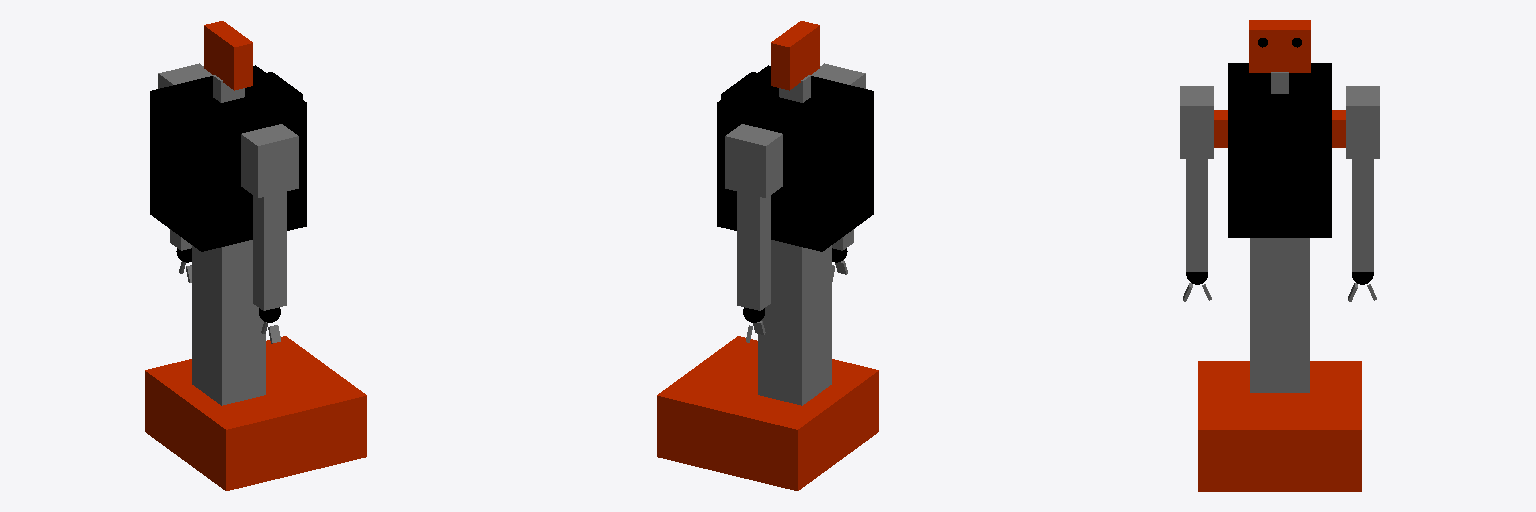
--- Facts derived from the render (not from the file) ---
The picture shows the robot from 3 angles, left to right: view 1: azimuth 30°, elevation 25°; view 2: azimuth 150°, elevation 25°; view 3: azimuth 270°, elevation 25°; orthographic projection.
Model tangy with 37 links and 36 joints (18 revolute, 18 fixed), rooted at base_link_robot, posed all joints at 0.
Links seen in each view (by area): view 1: base_link_robot, superior_link, base_torso, right_shoulder, head, lower_right_arm, upper_base_torso, upper_right_arm, left_shoulder; view 2: base_link_robot, superior_link, base_torso, left_shoulder, head, lower_left_arm, upper_base_torso, upper_left_arm, right_shoulder; view 3: base_link_robot, superior_link, base_torso, head, right_shoulder, left_shoulder, upper_base_torso, lower_right_arm, lower_left_arm, upper_right_arm, upper_left_arm, kinect (+2 smaller).
Link boxes in pixels (<box>): base_link_robot: <box>145,336,366,490</box>; superior_link: <box>150,65,306,251</box>; base_torso: <box>192,262,265,405</box>; right_shoulder: <box>241,124,298,197</box>; head: <box>204,21,252,90</box>; lower_right_arm: <box>253,239,286,310</box>; upper_base_torso: <box>192,240,252,282</box>; upper_right_arm: <box>253,192,286,245</box>; left_shoulder: <box>158,63,212,88</box>; base_link_robot: <box>657,336,878,490</box>; superior_link: <box>717,65,873,251</box>; base_torso: <box>758,262,831,405</box>; left_shoulder: <box>725,124,782,197</box>; head: <box>771,21,819,90</box>; lower_left_arm: <box>737,239,770,310</box>; upper_base_torso: <box>771,240,831,282</box>; upper_left_arm: <box>737,192,770,245</box>; right_shoulder: <box>811,63,865,88</box>; base_link_robot: <box>1198,361,1361,491</box>; superior_link: <box>1228,63,1331,237</box>; base_torso: <box>1250,269,1309,392</box>; head: <box>1249,20,1310,72</box>; right_shoulder: <box>1180,86,1213,158</box>; left_shoulder: <box>1346,86,1379,158</box>; upper_base_torso: <box>1250,238,1309,268</box>; lower_right_arm: <box>1186,207,1207,271</box>; lower_left_arm: <box>1352,207,1373,271</box>; upper_right_arm: <box>1186,159,1207,206</box>; upper_left_arm: <box>1352,159,1373,206</box>; kinect: <box>1249,114,1310,129</box>.
Size in the robot's own frame: 0.513 by 0.585 by 1.35 metres.
Geometry: primitives only (box / cylinder / sphere), no mesh files.

The robot description file, URDF, robot "tangy":
<?xml version="1.0" ?>
<!-- =================================================================================== -->
<!-- |    This document was autogenerated by xacro from [local-path]/Documents/TangerineModel.urdf.xacro | -->
<!-- |    EDITING THIS FILE BY HAND IS NOT RECOMMENDED                                 | -->
<!-- =================================================================================== -->
<robot name="tangy" xmlns:xacro="http://www.ros.org/wiki/xacro" xmlns:controller="http://playerstage.sourceforge.net/gazebo/xmlschema/#controller" >
  <!-- .......................MACROS.................... -->
  <!-- ....................... END MACROS.................... -->
  <!--.................ROS_CONTROL PLUGIN........... -->
  <gazebo>
    <plugin name="gazebo_ros_control" filename="libgazebo_ros_control.so">
      <robotNamespace></robotNamespace>
      <robotSimType>gazebo_ros_control/DefaultRobotHWSim</robotSimType>
    </plugin>
  </gazebo>
  
  <!-- ................BASE................. -->
<!--  <link name="root_frame_dummy">
    <visual>
      <geometry>
        <box size="0 0 0"/>
      </geometry>
    </visual>
    <inertial>
      <mass value="0.001"/>
      <inertia ixx="0.00001" ixy="0" ixz="0" iyy="0.00001" iyz="0" izz="0.00001"/>
    </inertial>
    <origin xyz="0 0 0"/>
  </link>
  <joint name="root_frame_to_base_torso" type="planar">
    <limit effort="1000.0" lower="0" upper="0" velocity="0"/>
    <parent link="root_frame_dummy"/>
    <child link="base_link_robot"/>
    <origin xyz="0 0 .1"/>
  </joint>-->
  <link name="base_link_robot">
    <visual>
      <geometry>
        <box size="0.48 0.48 0.2"/>
      </geometry>
      <material name="orange">
        <color rgba=".8 .2 0 1"/>
      </material>
    </visual>
    <collision>
      <geometry>
        <cylinder length="0.18" radius="0.2"/>
      </geometry>
    </collision>
    <inertial>
      <mass value="25"/>
      <inertia ixx="1" ixy="0.0" ixz="0.0" iyy="1" iyz="0.0" izz="1"/>
    </inertial>
    <origin xyz="0 0 0"/>
  </link>
  <gazebo reference="base_link">
    <material>Gazebo/Red</material>
  </gazebo>
  <joint name="base_link_to_torso" type="fixed">
    <axis xyz="1 0 0"/>
    <limit effort="1000.0" lower="0" upper="0" velocity="0"/>
    <parent link="base_link_robot"/>
    <child link="base_torso"/>
    <origin xyz="-0.093 0 0.3"/>
  </joint>
  <link name="base_torso">
    <visual>
      <geometry>
        <box size="0.176 0.15 0.4"/>
      </geometry>
      <material name="grey">
        <color rgba="0.5 0.5 0.5 1"/>
      </material>
      <origin rpy="0 0 1.57075"/>
    </visual>
    <collision>
      <geometry>
        <cylinder length="0.38" radius="0.074"/>
      </geometry>
    </collision>
    <inertial>
      <mass value="15"/>
      <inertia ixx="1" ixy="0.0" ixz="0.0" iyy="1" iyz="0.0" izz="1"/>
    </inertial>
  </link>
  <gazebo reference="base_torso">
    <material>Gazebo/Red</material>
  </gazebo>
  <link name="upper_base_torso">
    <visual>
      <geometry>
        <box size="0.176 0.15 0.15"/>
      </geometry>
      <material name="grey"/>
    </visual>
    <collision>
      <geometry>
        <cylinder length="0.14" radius="0.074"/>
      </geometry>
    </collision>
    <inertial>
      <mass value="10"/>
      <inertia ixx="1.0" ixy="0.0" ixz="0.0" iyy="1.0" iyz="0.0" izz="1"/>
    </inertial>
  </link>
  <gazebo reference="upper_base_torso">
    <material>Gazebo/Gray</material>
  </gazebo>
  <joint name="torso_to_upper_base" type="fixed">
    <limit effort="1000.0" lower="0" upper="0" velocity="0"/>
    <parent link="base_torso"/>
    <child link="upper_base_torso"/>
    <origin rpy="0 0 -1.57075" xyz="0 0 0.275"/>
  </joint>
  <link name="superior_link">
    <visual>
      <geometry>
        <box size="0.305 0.360 0.4"/>
      </geometry>
      <material name="black">
        <color rgba="0 0 0 1"/>
      </material>
    </visual>
    <collision>
      <geometry>
        <cylinder length="0.38" radius="0.15"/>
      </geometry>
    </collision>
    <inertial>
      <mass value="10"/>
      <inertia ixx=".5" ixy="0.0" ixz="0.0" iyy=".5" iyz="0.0" izz=".5"/>
    </inertial>
  </link>
  <gazebo reference="superior_link">
    <material>Gazebo/Black</material>
  </gazebo>
  <joint name="upper_base_to_superior_link" type="fixed">
    <limit effort="1000.0" lower="0" upper="0" velocity="0"/>
    <parent link="upper_base_torso"/>
    <child link="superior_link"/>
    <origin xyz="0 0 0.275"/>
  </joint>
  <joint name="kinect_joint" type="fixed">
    <limit effort="1000.0" lower="0" upper="0" velocity="0"/>
    <parent link="superior_link"/>
    <child link="kinect"/>
    <origin rpy="0 0 1.57075" xyz="0 0.19 0.18"/>
  </joint>  
  <link name="kinect">
    <visual>
      <geometry>
        <box size="0.02 0.18 0.04"/>
      </geometry>
      <material name="grey">
        <color rgba="0 0 0 0.5"/>
      </material>
    </visual>
    <collision>
      <geometry>
        <box size="0.0001 0.0001 0.0001"/>
      </geometry>
    </collision>
    <inertial>
      <mass value="0.01"/>
      <inertia ixx=".0001" ixy="0.0" ixz="0.0" iyy=".0001" iyz="0.0" izz=".0001"/>
    </inertial>
  </link>
  <joint name="kinect_depth_joint" type="fixed">
    <limit effort="1000.0" lower="0" upper="0" velocity="0"/>
    <parent link="kinect"/>
    <child link="kinect_depth_frame"/>
    <origin rpy="0 0.0 0" xyz="0 0.01 0"/>  
  </joint>
  <link name="kinect_depth_frame" >
    <visual>
      <geometry>
        <box size="0.0001 0.0001 0.0001"/>
      </geometry>
      <material name="grey">
        <color rgba="0 0 0 0.5"/>
      </material>
    </visual>
    <collision>
      <geometry>
        <box size="0.0001 0.0001 0.0001"/>
      </geometry>
    </collision>
    <inertial>
      <mass value="0.01"/>
      <inertia ixx=".0001" ixy="0.0" ixz="0.0" iyy=".0001" iyz="0.0" izz=".0001"/>
    </inertial>
  </link>
  <joint name="kinect_optical_joint" type="fixed">
    <origin rpy="0 0.0 0" xyz="0 0.001 0"/>    
    <parent link="kinect_depth_frame"/>
    <child link="kinect_optical_frame"/>
  </joint>
  <link name="kinect_optical_frame" >
    <visual>
      <geometry>
        <box size="0.0001 0.0001 0.0001"/>
      </geometry>
      <material name="grey">
        <color rgba="0 0 0 0.5"/>
      </material>
    </visual>
    <collision>
      <geometry>
        <box size="0.0001 0.0001 0.0001"/>
      </geometry>
    </collision>
    <inertial>
      <mass value="0.01"/>
      <inertia ixx=".0001" ixy="0.0" ixz="0.0" iyy=".0001" iyz="0.0" izz=".0001"/>
    </inertial>
  </link>
    <gazebo reference="skeleton/openni_depth_frame">
    <sensor name="kinect_optical_frame" type="depth">
      <always_on>true</always_on>
      <update_rate>20</update_rate>
      <camera>
        <horizontal_fov>1.047</horizontal_fov>
        <image>
          <format>R8G8B8</format>
          <width>200</width>
          <height>200</height>
        </image>
        <clip>
          <near>0.5</near>
          <far>5</far>
        </clip>
      </camera>
      <plugin filename="libgazebo_ros_openni_kinect.so" name="skeleton/openni_depth_frame_rgb_link_controller">
        <alwaysOn>true</alwaysOn>
        <updateRate>20</updateRate>
        <cameraName>kinect</cameraName>
        <imageTopicName>/kinect_depth_frame/rgb/image_raw</imageTopicName>
        <cameraInfoTopicName>/kinect_depth_frame/rgb/camera_info</cameraInfoTopicName>
        <pointCloudTopicName>/kinect_depth_frame/depth_registered/points</pointCloudTopicName>
        <depthImageTopicName>/kinect_depth_frame/depth_registered/image</depthImageTopicName>
        <depthImageCameraInfoTopicName>kinect_depth_frame/depth_registered/camera_info</depthImageCameraInfoTopicName>
        <frameName>/kinect_optical_frame</frameName>
        <pointCloudCutoff>0.05</pointCloudCutoff>
        <hackBaseline>0.07</hackBaseline>
        <distortionK1>0.0</distortionK1>
        <distortionK2>0.0</distortionK2>
        <distortionK3>0.0</distortionK3>
        <distortionT1>0.0</distortionT1>
        <distortionT2>0.0</distortionT2>
      </plugin>
    </sensor>
    <material value="Gazebo/Red"/>
  </gazebo> 
  <!-- ................END BASE................. -->
  <!-- ................HEAD................. -->
  <link name="neck_link">
    <visual>
      <geometry>
        <box size="0.05 0.08 0.07"/>
      </geometry>
      <material name="grey"/>
    </visual>
    <collision>
      <geometry>
        <cylinder length="0.068" radius="0.024"/>
      </geometry>
    </collision>
    <inertial>
      <mass value="0.5"/>
      <inertia ixx=".0001" ixy="0.0" ixz="0.0" iyy=".0001" iyz="0.0" izz=".0001"/>
    </inertial>
  </link>
  <gazebo reference="neck_link">
    <material>Gazebo/Red</material>
  </gazebo>
  <joint name="superior_to_neck_link" type="fixed">
    <limit effort="1000.0" lower="0" upper="0" velocity="0"/>
    <parent link="superior_link"/>
    <child link="neck_link"/>
    <origin xyz="0 0 0.235"/>
  </joint>
  <link name="neck_z_revolute">
    <collision>
      <geometry>
        <cylinder length="0.01" radius="0.01"/>
      </geometry>
    </collision>
    <inertial>
      <mass value="0.01"/>
      <inertia ixx=".00001" ixy="0" ixz="0.0" iyy=".00001" iyz="0.0" izz=".00001"/>
    </inertial>
  </link>
  <joint name="neck_to_z_revolute" type="revolute">
    <axis xyz="0 0 1"/>
    <limit effort="10.0" lower="-0.7853" upper="0.7853" velocity="3"/>
    <parent link="neck_link"/>
    <child link="neck_z_revolute"/>
    <dynamics damping="1" friction="1000"/>
  </joint>
  <transmission name="neck_to_z_revolute_trans">
    <type>transmission_interface/SimpleTransmission</type>
    <joint name="neck_to_z_revolute"/>
    <actuator name="neck_to_z_revolute_motor">
      <hardwareInterface>EffortJointInterface</hardwareInterface>
      <mechanicalReduction>50</mechanicalReduction>
    </actuator>
  </transmission>
  <link name="neck_x_revolute">
    <collision>
      <geometry>
        <cylinder length="0.001" radius="0.001"/>
      </geometry>
    </collision>
    <inertial>
      <mass value="0.01"/>
      <inertia ixx=".00001" ixy="0.0" ixz="0.0" iyy=".00001" iyz="0.0" izz=".00001"/>
    </inertial>
  </link>
  <joint name="z_revolute_to_x_revolute" type="revolute">
    <axis xyz="1 0 0"/>
    <limit effort="10.0" lower="-0.3926" upper="0.3926" velocity="3"/>
    <parent link="neck_z_revolute"/>
    <child link="neck_x_revolute"/>
    <dynamics damping="1" friction="1000"/>
  </joint>
  <transmission name="z_revolute_to_x_revolute_trans">
    <type>transmission_interface/SimpleTransmission</type>
    <joint name="z_revolute_to_x_revolute"/>
    <actuator name="z_revolute_to_x_revolute_motor">
      <hardwareInterface>EffortJointInterface</hardwareInterface>
      <mechanicalReduction>50</mechanicalReduction>
    </actuator>
  </transmission>
  <link name="head">
    <visual>
      <geometry>
        <box size="0.18 0.065 0.14"/>
      </geometry>
      <material name="orange"/>
    </visual>
    <collision>
      <geometry>
        <box size="0.16 0.05 0.12"/>
      </geometry>
    </collision>
    <inertial>
      <mass value="2"/>
      <inertia ixx="0.03" ixy="0.0" ixz="0.0" iyy="0.08" iyz="0.0" izz="0.05"/>
    </inertial>
  </link>
  <gazebo reference="head">
    <material>Gazebo/Red</material>
  </gazebo>
  <joint name="revolute_head" type="fixed">
    <limit effort="1000.0" lower="0" upper="0" velocity="0"/>
    <parent link="neck_x_revolute"/>
    <child link="head"/>
    <origin xyz="0 0 0.1"/>
  </joint>
  <link name="right_eye">
    <visual>
      <geometry>
        <cylinder length="0.015" radius="0.015"/>
      </geometry>
      <material name="black"/>
      <origin rpy="-1.57075 0 0"/>
    </visual>
    <collision>
      <geometry>
        <cylinder length="0.013" radius="0.005"/>
      </geometry>
    </collision>
    <inertial>
      <mass value="0.2"/>
      <inertia ixx=".000001" ixy="0.0" ixz="0.0" iyy="0" iyz="0.0" izz=".000001"/>
    </inertial>
  </link>
  <joint name="right_eye_to_head" type="fixed">
    <limit effort="1000.0" lower="0" upper="0" velocity="0"/>
    <parent link="head"/>
    <child link="right_eye"/>
    <origin xyz="0.05 0.03 0.03"/>
  </joint>
  <link name="left_eye">
    <visual>
      <geometry>
        <cylinder length="0.015" radius="0.015"/>
      </geometry>
      <material name="black"/>
      <origin rpy="-1.57075 0 0"/>
    </visual>
    <collision>
      <geometry>
        <cylinder length="0.013" radius="0.005"/>
      </geometry>
    </collision>
    <inertial>
      <mass value="0.2"/>
      <inertia ixx=".000001" ixy="0.0" ixz="0.0" iyy="0" iyz="0.0" izz=".000001"/>
    </inertial>
  </link>
  <joint name="left_eye_to_head" type="fixed">
    <limit effort="1000.0" lower="0" upper="0" velocity="0"/>
    <parent link="head"/>
    <child link="left_eye"/>
    <origin xyz="-0.05 0.03 0.03"/>
  </joint> 
  <!-- ................END HEAD................. -->
  <!-- ................RIGHT ARM................. -->
  <link name="right_shoulder_link">
    <visual>
      <geometry>
        <box size="0.04 0.07 0.09"/>
      </geometry>
      <material name="orange"/>
    </visual>
    <collision>
      <geometry>
        <cylinder length="0.10" radius="0.035"/>
      </geometry>
    </collision>
    <inertial>
      <mass value=".5"/>
      <inertia ixx=".001" ixy="0.0" ixz="0.0" iyy=".001" iyz="0.0" izz=".0005"/>
    </inertial>
  </link>
  <gazebo reference="right_shoulder_link">
    <material>Gazebo/Gray</material>
  </gazebo>
  <joint name="superior_link_to_right_shoulder_link" type="fixed">
    <axis xyz="1 0 0"/>
    <limit effort="100.0" lower="-3.142" upper="3.142" velocity="1"/>
    <parent link="superior_link"/>
    <child link="right_shoulder_link"/>
    <origin xyz="0.1725 0 0.07"/>
    <dynamics damping="1.5" friction="1000"/>
  </joint>
  <link name="right_shoulder">
    <visual>
      <geometry>
        <box size="0.10 0.14 0.17"/>
      </geometry>
      <material name="grey"/>
    </visual>
    <collision>
      <geometry>
        <cylinder length="0.10" radius="0.04"/>
      </geometry>
    </collision>
    <inertial>
      <mass value="1"/>
      <inertia ixx=".001" ixy="0.0" ixz="0.0" iyy=".001" iyz="0.0" izz=".0008"/>
    </inertial>
  </link>
  <gazebo reference="right_shoulder">
    <material>Gazebo/Gray</material>
  </gazebo>
  <joint name="right_shoulder_x_revolute" type="revolute">
    <axis xyz="1 0 0"/>
    <limit effort="100" lower="-0.34907" upper="3.35103" velocity="3"/>
    <parent link="right_shoulder_link"/>
    <child link="right_shoulder"/>
    <origin xyz="0.07 0 0.02"/>
    <dynamics damping="1" friction="1000"/>
  </joint>
  <transmission name="right_shoulder_x_revolute_trans">
    <type>transmission_interface/SimpleTransmission</type>
    <joint name="right_shoulder_x_revolute"/>
    <actuator name="right_shoulder_x_revolute_motor">
      <hardwareInterface>EffortJointInterface</hardwareInterface>
      <mechanicalReduction>50</mechanicalReduction>
    </actuator>
  </transmission>
  <link name="upper_right_arm_z_revolute">
    <collision>
      <geometry>
        <cylinder length="0.01" radius="0.01"/>
      </geometry>
    </collision>
    <inertial>
      <mass value="0.01"/>
      <inertia ixx=".000001" ixy="0.0" ixz="0.0" iyy=".000001" iyz="0.0" izz=".000001"/>
    </inertial>
  </link>
  <joint name="upper_right_arm_z_revolute_joint" type="revolute">
    <axis xyz="0 0 -1"/>
    <limit effort="100" lower="-1.8326" upper="1.8326" velocity="3"/>
    <parent link="upper_right_arm_y_revolute"/>
    <child link="upper_right_arm_z_revolute"/>
    <origin xyz="0 0 0"/>
    <dynamics damping="1" friction="1000"/>
  </joint>
  <transmission name="upper_right_arm_z_revolute_joint_trans">
    <type>transmission_interface/SimpleTransmission</type>
    <joint name="upper_right_arm_z_revolute_joint"/>
    <actuator name="upper_right_arm_z_revolute_motor">
      <hardwareInterface>EffortJointInterface</hardwareInterface>
      <mechanicalReduction>50</mechanicalReduction>
    </actuator>
  </transmission>
  <link name="upper_right_arm_y_revolute">
    <collision>
      <geometry>
        <cylinder length="0.01" radius="0.01"/>
      </geometry>
    </collision>
    <inertial>
      <mass value="0.01"/>
      <inertia ixx=".000001" ixy="0.0" ixz="0.0" iyy=".000001" iyz="0.0" izz=".000001"/>
    </inertial>
  </link>
  <joint name="upper_right_arm_y_revolute_joint" type="revolute">
    <axis xyz="0 1 0"/>
    <limit effort="75.0" lower="-1.9199" upper="0.08727" velocity="3"/>
    <parent link="right_shoulder"/>
    <child link="upper_right_arm_y_revolute"/>
    <origin xyz="0 0 0"/>
    <dynamics damping="1" friction="1000"/>   
  </joint>
  <transmission name="upper_right_arm_y_revolute_joint_trans">
    <type>transmission_interface/SimpleTransmission</type>
    <joint name="upper_right_arm_y_revolute_joint"/>
    <actuator name="upper_right_arm_y_revolute_joint">
      <hardwareInterface>EffortJointInterface</hardwareInterface>
      <mechanicalReduction>50</mechanicalReduction>
    </actuator>
  </transmission>
  <link name="upper_right_arm">
    <visual>
      <geometry>
        <box size="0.065 0.08 0.17"/>
      </geometry>
      <material name="grey"/>
    </visual>
    <collision>
      <geometry>
        <cylinder length="0.10" radius="0.032"/>
      </geometry>
    </collision>
    <inertial>
      <mass value="1"/>
      <inertia ixx=".003" ixy="0.0" ixz="0.0" iyy=".003" iyz="0.0" izz=".001"/>
    </inertial>
  </link>
  <gazebo reference="upper_right_arm">
    <material>Gazebo/Gray</material>
  </gazebo>
  <joint name="shoulder_to_upper_right_arm" type="fixed">
    <parent link="upper_right_arm_z_revolute"/>
    <child link="upper_right_arm"/>
    <origin xyz="0 0 -0.17"/>
  </joint>
  <joint name="upper_to_lower_right_joint" type="revolute">
    <axis xyz="-1 0 0"/>
    <limit effort="50.0" lower="-2.2515" upper="1.5708" velocity="3"/>
    <parent link="upper_right_arm"/>
    <child link="lower_right_arm_y_revolute"/>
    <origin xyz="0 0 -.085"/>
    <dynamics damping="1" friction="1000"/>
  </joint>
  <transmission name="upper_to_lower_right_joint_trans">
    <type>transmission_interface/SimpleTransmission</type>
    <joint name="upper_to_lower_right_joint"/>
    <actuator name="upper_to_lower_right_joint_motor">
      <hardwareInterface>EffortJointInterface</hardwareInterface>
      <mechanicalReduction>50</mechanicalReduction>
    </actuator>
  </transmission>
  <link name="lower_right_arm_y_revolute">
    <collision>
      <geometry>
        <cylinder length="0.01" radius="0.01"/>
      </geometry>
    </collision>
    <inertial>
      <mass value="0.01"/>
      <inertia ixx=".000001" ixy="0.0" ixz="0.0" iyy=".000001" iyz="0.0" izz=".000001"/>
    </inertial>
    <origin xyz="0 0 0"/>
  </link>
  <joint name="lower_right_joint_to_lower_arm" type="fixed">
    <parent link="lower_right_arm_y_revolute"/>
    <child link="lower_right_arm"/>
    <origin xyz="0 0 -.105"/>
  </joint>
  <link name="lower_right_arm">
    <visual>
      <geometry>
        <box size="0.065 0.08 0.21"/>
      </geometry>
      <material name="grey"/>
    </visual>
    <collision>
      <geometry>
        <cylinder length="0.15" radius="0.032"/>
      </geometry>
    </collision>
    <inertial>
      <mass value="0.5"/>
      <inertia ixx=".002" ixy="0.0" ixz="0.0" iyy=".002" iyz="0.0" izz=".0005"/>
    </inertial>
  </link>
  <gazebo reference="lower_right_arm">
    <material>Gazebo/Gray</material>
  </gazebo>
  <link name="wrist_right_arm_z_revolute">
    <collision>
      <geometry>
        <cylinder length="0.01" radius="0.01"/>
      </geometry>
    </collision>
    <inertial>
      <mass value="0.01"/>
      <inertia ixx=".000001" ixy="0.0" ixz="0.0" iyy=".000001" iyz="0.0" izz=".000001"/>
    </inertial>
  </link>
  <joint name="wrist_right_arm_z_revolute_joint" type="revolute">
    <axis xyz="0 0 -1"/>
    <limit effort="25.0" lower="-1.5708" upper="1.5708" velocity="2"/>
    <parent link="lower_right_arm"/>
    <child link="wrist_right_arm_z_revolute"/>
    <dynamics damping="1" friction="1000"/>
  </joint>
  <transmission name="wrist_right_arm_z_revolute_joint_trans">
    <type>transmission_interface/SimpleTransmission</type>
    <joint name="wrist_right_arm_z_revolute_joint"/>
    <actuator name="wrist_right_arm_z_revolute_joint_motor">
      <hardwareInterface>EffortJointInterface</hardwareInterface>
      <mechanicalReduction>50</mechanicalReduction>
    </actuator>
  </transmission>
  <link name="wrist_right_arm_x_revolute">
    <collision>
      <geometry>
        <cylinder length="0.01" radius="0.01"/>
      </geometry>
    </collision>
    <inertial>
      <mass value="0.01"/>
      <inertia ixx=".000001" ixy="0.0" ixz="0.0" iyy=".000001" iyz="0.0" izz=".000001"/>
    </inertial>
  </link>
  <joint name="wrist_right_arm_x_revolute_joint" type="fixed">
    <parent link="wrist_right_arm_z_revolute"/>
    <child link="wrist_right_arm_x_revolute"/>
  </joint>
  <link name="wrist_right_arm">
    <visual>
      <geometry>
        <sphere radius="0.0325"/>
      </geometry>
      <material name="black"/>
    </visual>
    <collision>
      <geometry>
        <sphere radius="0.02"/>
      </geometry>
    </collision>
    <inertial>
      <mass value="0.25"/>
      <inertia ixx=".00003" ixy="0.0" ixz="0.0" iyy="0" iyz="0.0" izz=".00003"/>
    </inertial>
  </link>
  <gazebo reference="wrist_right_arm">
    <material>Gazebo/Black</material>
  </gazebo>
  <joint name="lower_to_wrist_right_arm" type="revolute">
    <axis xyz="0 1 0"/>
    <limit effort="50" lower="-1.0472" upper="1.48353" velocity="3"/>
    <parent link="wrist_right_arm_x_revolute"/>
    <child link="wrist_right_arm"/>
    <origin xyz="0 0 -0.13"/>
    <dynamics damping=".1" friction="1000"/>
  </joint>
  <transmission name="lower_to_wrist_right_arm_trans">
    <type>transmission_interface/SimpleTransmission</type>
    <joint name="lower_to_wrist_right_arm"/>
    <actuator name="lower_to_wrist_right_arm_motor">
      <hardwareInterface>EffortJointInterface</hardwareInterface>
      <mechanicalReduction>50</mechanicalReduction>
    </actuator>
  </transmission>
  <link name="finger1_right_arm">
    <visual>
      <geometry>
        <box size="0.01 0.01 0.05"/>
      </geometry>
      <origin xyz="0 0 -0.025"/>
      <material name="grey"/>
    </visual>
    <collision>
      <geometry>
        <cylinder length="0.02" radius="0.004"/>
      </geometry>
    </collision>
    <inertial>
      <mass value="0.1"/>
      <inertia ixx=".000001" ixy="0.0" ixz="0.0" iyy="0" iyz="0.0" izz=".000001"/>
    </inertial>
    <dynamics damping="0.7" friction="1000.0"/>
  </link>
  <gazebo reference="finger1_right_arm">
    <material>Gazebo/Gray</material>
  </gazebo>
  <joint name="wrist_to_finger1_right_arm" type="revolute">
    <axis xyz="0 1 0"/>
    <limit effort="50" lower="0" upper="-0.68" velocity="3"/>
    <parent link="wrist_right_arm"/>
    <child link="finger1_right_arm"/>
    <origin rpy="0 0.3926875 0" xyz="-0.01875 0 -0.0375"/>
  </joint>
  <transmission name="wrist_to_finger1_right_arm_trans">
    <type>transmission_interface/SimpleTransmission</type>
    <joint name="wrist_to_finger1_right_arm"/>
    <actuator name="wrist_to_finger1_right_arm_motor">
      <hardwareInterface>EffortJointInterface</hardwareInterface>
      <mechanicalReduction>50</mechanicalReduction>
    </actuator>
  </transmission>
  <link name="finger2_right_arm">
    <visual>
      <geometry>
        <box size="0.01 0.03 0.05"/>
      </geometry>
      <origin xyz="0 0 -0.025"/>
      <material name="grey"/>
    </visual>
    <collision>
      <geometry>
        <cylinder length="0.02" radius="0.004"/>
      </geometry>
    </collision>
    <inertial>
      <mass value="0.1"/>
      <inertia ixx=".000001" ixy="0.0" ixz="0.0" iyy="0" iyz="0.0" izz=".000001"/>
    </inertial>
    <dynamics damping="0.7" friction="1000.0"/>
  </link>
  <gazebo reference="finger2_right_arm">
    <material>Gazebo/Gray</material>
  </gazebo>
  <joint name="wrist_to_finger2_right_arm" type="revolute">
    <axis xyz="0 1 0"/>
    <limit effort="50" lower="0.68" upper="0" velocity="3"/>
    <parent link="wrist_right_arm"/>
    <child link="finger2_right_arm"/>
    <origin rpy="0 -0.3926875 0" xyz="0.01875 0 -0.0375"/> 
  </joint>
  <transmission name="wrist_to_finger2_right_arm_trans">
    <type>transmission_interface/SimpleTransmission</type>
    <joint name="wrist_to_finger2_right_arm"/>
    <actuator name="wrist_to_finger2_right_arm_motor">
      <hardwareInterface>EffortJointInterface</hardwareInterface>
      <mechanicalReduction>50</mechanicalReduction>
    </actuator>
  </transmission>
  <!-- ................END RIGHT ARM................. -->
  <!-- ................LEFT ARM................. -->
  <link name="left_shoulder_link">
    <visual>
      <geometry>
        <box size="0.04 0.07 0.09"/>
      </geometry>
      <material name="orange"/>
    </visual>
    <collision>
      <geometry>
        <cylinder length="0.10" radius="0.035"/>
      </geometry>
    </collision>
    <inertial>
      <mass value=".5"/>
      <inertia ixx=".001" ixy="0.0" ixz="0.0" iyy=".001" iyz="0.0" izz=".0005"/>
    </inertial>
  </link>
  <gazebo reference="left_shoulder_link">
    <material>Gazebo/Gray</material>
  </gazebo>
  <joint name="superior_link_to_left_shoulder_link" type="fixed">
    <axis xyz="1 0 0"/>
    <limit effort="100.0" lower="-0.785375" upper="1.57075" velocity="3"/>
    <parent link="superior_link"/>
    <child link="left_shoulder_link"/>
    <origin xyz="-0.1725 0 0.07"/>
    <dynamics damping="1.5" friction="1000"/>
  </joint>
  <link name="left_shoulder">
    <visual>
      <geometry>
        <box size="0.10 0.14 0.17"/>
      </geometry>
      <material name="grey"/>
    </visual>
    <collision>
      <geometry>
        <cylinder length="0.10" radius="0.04"/>
      </geometry>
    </collision>
    <inertial>
      <mass value="1"/>
      <inertia ixx=".001" ixy="0.0" ixz="0.0" iyy=".001" iyz="0.0" izz=".0008"/>
    </inertial>
  </link>
  <gazebo reference="left_shoulder">
    <material>Gazebo/Gray</material>
  </gazebo>
  <joint name="left_shoulder_x_revolute" type="revolute">
    <axis xyz="1 0 0"/>
    <limit effort="100" lower="-0.34907" upper="3.35103" velocity="3"/>
    <parent link="left_shoulder_link"/>
    <child link="left_shoulder"/>
    <origin xyz="-0.07 0 0.02"/>
    <dynamics damping="1" friction="1000"/>
  </joint>
  <transmission name="left_shoulder_x_revolute_trans">
    <type>transmission_interface/SimpleTransmission</type>
    <joint name="left_shoulder_x_revolute"/>
    <actuator name="left_shoulder_x_revolute_motor">
      <hardwareInterface>EffortJointInterface</hardwareInterface>
      <mechanicalReduction>50</mechanicalReduction>
    </actuator>
  </transmission>
  <link name="upper_left_arm_z_revolute">
    <collision>
      <geometry>
        <cylinder length="0.01" radius="0.01"/>
      </geometry>
    </collision>
    <inertial>
      <mass value="0.01"/>
      <inertia ixx=".000001" ixy="0.0" ixz="0.0" iyy=".000001" iyz="0.0" izz=".000001"/>
    </inertial>
  </link>
  <joint name="upper_left_arm_z_revolute_joint" type="revolute">
    <axis xyz="0 0 1"/>
    <limit effort="100" lower="-1.8326" upper="1.8326" velocity="3"/>
    <parent link="upper_left_arm_y_revolute"/>
    <child link="upper_left_arm_z_revolute"/>
    <origin xyz="0 0 0"/>
    <dynamics damping="1" friction="1000"/>
  </joint>
  <transmission name="upper_left_arm_z_revolute_joint_trans">
    <type>transmission_interface/SimpleTransmission</type>
    <joint name="upper_left_arm_z_revolute_joint"/>
    <actuator name="upper_left_arm_z_revolute_joint_motor">
      <hardwareInterface>EffortJointInterface</hardwareInterface>
      <mechanicalReduction>50</mechanicalReduction>
    </actuator>
  </transmission>
  <link name="upper_left_arm_y_revolute">
    <collision>
      <geometry>
        <cylinder length="0.01" radius="0.01"/>
      </geometry>
    </collision>
    <inertial>
      <mass value="0.01"/>
      <inertia ixx=".000001" ixy="0.0" ixz="0.0" iyy=".000001" iyz="0.0" izz=".000001"/>
    </inertial>
  </link>
  <joint name="upper_left_arm_y_revolute_joint" type="revolute">
    <axis xyz="0 -1 0"/>
    <limit effort="75.0" lower="-1.9198" upper="0.08727" velocity="3"/>
    <parent link="left_shoulder"/>
    <child link="upper_left_arm_y_revolute"/>
    <origin xyz="0 0 0"/>
    <dynamics damping="1" friction="1000"/>   
  </joint>
  <transmission name="upper_left_arm_y_revolute_joint_trans">
    <type>transmission_interface/SimpleTransmission</type>
    <joint name="upper_left_arm_y_revolute_joint"/>
    <actuator name="upper_left_arm_y_revolute_joint_motor">
      <hardwareInterface>EffortJointInterface</hardwareInterface>
      <mechanicalReduction>50</mechanicalReduction>
    </actuator>
  </transmission>
  <link name="upper_left_arm">
    <visual>
      <geometry>
        <box size="0.065 0.08 0.17"/>
      </geometry>
      <material name="grey"/>
    </visual>
    <collision>
      <geometry>
        <cylinder length="0.1" radius="0.032"/>
      </geometry>
    </collision>
    <inertial>
      <mass value="1"/>
      <inertia ixx=".003" ixy="0.0" ixz="0.0" iyy=".003" iyz="0.0" izz=".001"/>
    </inertial>
  </link>
  <gazebo reference="upper_left_arm">
    <material>Gazebo/Gray</material>
  </gazebo>
  <joint name="shoulder_to_upper_left_arm" type="fixed">
    <parent link="upper_left_arm_z_revolute"/>
    <child link="upper_left_arm"/>
    <origin xyz="0 0 -0.17"/>
  </joint>
  <joint name="upper_to_lower_left_joint" type="revolute">
    <axis xyz="-1 0 0"/>
    <limit effort="50.0" lower="-2.2515" upper="1.5708" velocity="3"/>
    <parent link="upper_left_arm"/>
    <child link="lower_left_arm_y_revolute"/>
    <origin xyz="0 0 -.085"/>
    <dynamics damping="1" friction="1000"/>
  </joint>
  <transmission name="upper_to_lower_left_joint_trans">
    <type>transmission_interface/SimpleTransmission</type>
    <joint name="upper_to_lower_left_joint"/>
    <actuator name="upper_to_lower_left_joint_motor">
      <hardwareInterface>EffortJointInterface</hardwareInterface>
      <mechanicalReduction>50</mechanicalReduction>
    </actuator>
  </transmission>
  <link name="lower_left_arm_y_revolute">
    <collision>
      <geometry>
        <cylinder length="0.01" radius="0.01"/>
      </geometry>
    </collision>
    <inertial>
      <mass value="0.01"/>
      <inertia ixx=".000001" ixy="0.0" ixz="0.0" iyy=".000001" iyz="0.0" izz=".000001"/>
    </inertial>
    <origin xyz="0 0 0"/>
  </link>
  <joint name="lower_left_joint_to_lower_arm" type="fixed">
    <parent link="lower_left_arm_y_revolute"/>
    <child link="lower_left_arm"/>
    <origin xyz="0 0 -.105"/>
  </joint>
  <link name="lower_left_arm">
    <visual>
      <geometry>
        <box size="0.065 0.08 0.21"/>
      </geometry>
      <material name="grey"/>
    </visual>
    <collision>
      <geometry>
        <cylinder length="0.15" radius="0.032"/>
      </geometry>
    </collision>
    <inertial>
      <mass value="0.5"/>
      <inertia ixx=".002" ixy="0.0" ixz="0.0" iyy=".002" iyz="0.0" izz=".0005"/>
    </inertial>
  </link>
  <gazebo reference="lower_left_arm">
    <material>Gazebo/Gray</material>
  </gazebo>
  <link name="wrist_left_arm_z_revolute">
    <collision>
      <geometry>
        <cylinder length="0.01" radius="0.01"/>
      </geometry>
    </collision>
    <inertial>
      <mass value="0.01"/>
      <inertia ixx=".000001" ixy="0.0" ixz="0.0" iyy=".000001" iyz="0.0" izz=".000001"/>
    </inertial>
  </link>
  <joint name="wrist_left_arm_z_revolute_joint" type="revolute">
    <axis xyz="0 0 1"/>
    <limit effort="25.0" lower="-1.5708" upper="1.5708" velocity="2"/>
    <parent link="lower_left_arm"/>
    <child link="wrist_left_arm_z_revolute"/>
    <dynamics damping="1" friction="1000"/>
  </joint>
  <transmission name="wrist_left_arm_z_revolute_joint_trans">
    <type>transmission_interface/SimpleTransmission</type>
    <joint name="wrist_left_arm_z_revolute_joint"/>
    <actuator name="wrist_left_arm_z_revolute_joint_motor">
      <hardwareInterface>EffortJointInterface</hardwareInterface>
      <mechanicalReduction>50</mechanicalReduction>
    </actuator>
  </transmission>
  <link name="wrist_left_arm_x_revolute">
    <collision>
      <geometry>
        <cylinder length="0.01" radius="0.01"/>
      </geometry>
    </collision>
    <inertial>
      <mass value="0.01"/>
      <inertia ixx=".000001" ixy="0.0" ixz="0.0" iyy=".000001" iyz="0.0" izz=".000001"/>
    </inertial>
  </link>
  <joint name="wrist_left_arm_x_revolute_joint" type="fixed">
    <parent link="wrist_left_arm_z_revolute"/>
    <child link="wrist_left_arm_x_revolute"/>
  </joint>
  <link name="wrist_left_arm">
    <visual>
      <geometry>
        <sphere radius="0.0325"/>
      </geometry>
      <material name="black"/>
    </visual>
    <collision>
      <geometry>
        <sphere radius="0.02"/>
      </geometry>
    </collision>
    <inertial>
      <mass value="0.25"/>
      <inertia ixx=".00003" ixy="0.0" ixz="0.0" iyy="0" iyz="0.0" izz=".00003"/>
    </inertial>
  </link>
  <gazebo reference="wrist_left_arm">
    <material>Gazebo/Black</material>
  </gazebo>
  <joint name="lower_to_wrist_left_arm" type="revolute">
    <axis xyz="0 -1 0"/>
    <limit effort="50" lower="-1.0472" upper="1.48353" velocity="3"/>
    <parent link="wrist_left_arm_x_revolute"/>
    <child link="wrist_left_arm"/>
    <origin xyz="0 0 -0.13"/>
    <dynamics damping=".1" friction="1000"/>
  </joint>
  <transmission name="lower_to_wrist_left_arm_trans">
    <type>transmission_interface/SimpleTransmission</type>
    <joint name="lower_to_wrist_left_arm"/>
    <actuator name="left_to_wrist_left_arm_motor">
      <hardwareInterface>EffortJointInterface</hardwareInterface>
      <mechanicalReduction>50</mechanicalReduction>
    </actuator>
  </transmission>
  <link name="finger1_left_arm">
    <visual>
      <geometry>
        <box size="0.01 0.01 0.05"/>
      </geometry>
      <origin xyz="0 0 -0.025"/>
      <material name="grey"/>
    </visual>
    <collision>
      <geometry>
        <cylinder length="0.02" radius="0.004"/>
      </geometry>
    </collision>
    <inertial>
      <mass value="0.1"/>
      <inertia ixx=".000001" ixy="0.0" ixz="0.0" iyy="0" iyz="0.0" izz=".000001"/>
    </inertial>
    <dynamics damping="0.7" friction="1000.0"/>
  </link>
  <gazebo reference="finger1_left_arm">
    <material>Gazebo/Gray</material>
  </gazebo>
  <joint name="wrist_to_finger1_left_arm" type="revolute">
    <axis xyz="0 1 0"/>
    <limit effort="50" lower="0" upper="-0.68" velocity="3"/>
    <parent link="wrist_left_arm"/>
    <child link="finger1_left_arm"/>
    <origin rpy="0 0.3926875 0" xyz="-0.01875 0 -0.0375"/>
  </joint>
  <transmission name="wrist_to_finger1_left_arm_trans">
    <type>transmission_interface/SimpleTransmission</type>
    <joint name="wrist_to_finger1_left_arm"/>
    <actuator name="wrist_to_finger1_left_arm_motor">
      <hardwareInterface>EffortJointInterface</hardwareInterface>
      <mechanicalReduction>50</mechanicalReduction>
    </actuator>
  </transmission>
  <link name="finger2_left_arm">
    <visual>
      <geometry>
        <box size="0.01 0.03 0.05"/>
      </geometry>
      <origin xyz="0 0 -0.025"/>
      <material name="grey"/>
    </visual>
    <collision>
      <geometry>
        <cylinder length="0.02" radius="0.004"/>
      </geometry>
    </collision>
    <inertial>
      <mass value="0.1"/>
      <inertia ixx=".000001" ixy="0.0" ixz="0.0" iyy="0" iyz="0.0" izz=".000001"/>
    </inertial>
    <dynamics damping="0.7" friction="1000.0"/>
  </link>
  <gazebo reference="finger2_left_arm">
    <material>Gazebo/Gray</material>
  </gazebo>
  <joint name="wrist_to_finger2_left_arm" type="revolute">
    <axis xyz="0 1 0"/>
    <limit effort="50" lower="0.68" upper="0" velocity="3"/>
    <parent link="wrist_left_arm"/>
    <child link="finger2_left_arm"/>
    <origin rpy="0 -0.3926875 0" xyz="0.01875 0 -0.0375"/>
  </joint> 
  <transmission name="wrist_to_finger2_left_arm_trans">
    <type>transmission_interface/SimpleTransmission</type>
    <joint name="wrist_to_finger2_left_arm"/>
    <actuator name="wrist_to_finger2_left_arm_motor">
      <hardwareInterface>EffortJointInterface</hardwareInterface>
      <mechanicalReduction>50</mechanicalReduction>
    </actuator>
  </transmission>
  <!-- ................END LEFT ARM................. -->
  <!-- ................SENSORS...................... 
  <link name="laser_base">
    <visual>
      <geometry>
        <box size="0.02 0.03 0.04"/>
      </geometry>
      <material name="blue">
        <color rgba="0 0 1 .9"/>
      </material>
    </visual>
    <collision>
      <geometry>
        <cylinder length="0.001" radius="0.0001"/>
      </geometry>
    </collision>  
    <inertial>
      <mass value=".001"/>
      <inertia ixx=".000001" ixy="0.0" ixz="0.0" iyy=".000001" iyz="0.0" izz=".000001"/>
    </inertial>
  </link>
  <joint name="laser_base_to_torso" type="fixed">
    <parent link="base_torso"/>
    <child link="laser_base"/>
    <origin rpy="1.5708 0 0" xyz="0.09 0 .06"/>
  </joint>
  <joint name="laser_joint_to_base" type="revolute">
    <axis xyz="1 0 0"/>
    <limit effort="1000.0" lower="-.77" upper=".77" velocity="5"/>
    <parent link="laser_base"/>
    <child link="base_laser"/>
    <origin rpy="0 1.5708 0" xyz="0.025 0 0"/>
  </joint>
  <link name="base_laser">
    <visual>
      <geometry>
        <cylinder length="0.02" radius="0.03"/>
      </geometry>
      <material name="black">
        <color rgba="0 0 0 1"/>
      </material>
    </visual>
    <inertial>
      <mass value=".001"/>
      <inertia ixx=".000001" ixy="0.0" ixz="0.0" iyy=".000001" iyz="0.0" izz=".000001"/>
    </inertial>
    <collision>
      <geometry>
        <cylinder length="0.001" radius="0.0001"/>
      </geometry>
    </collision>
    <origin rpy="0 0 0"/>
  </link>-->

  <!-- ................END SENSORS.................. -->

</robot>
